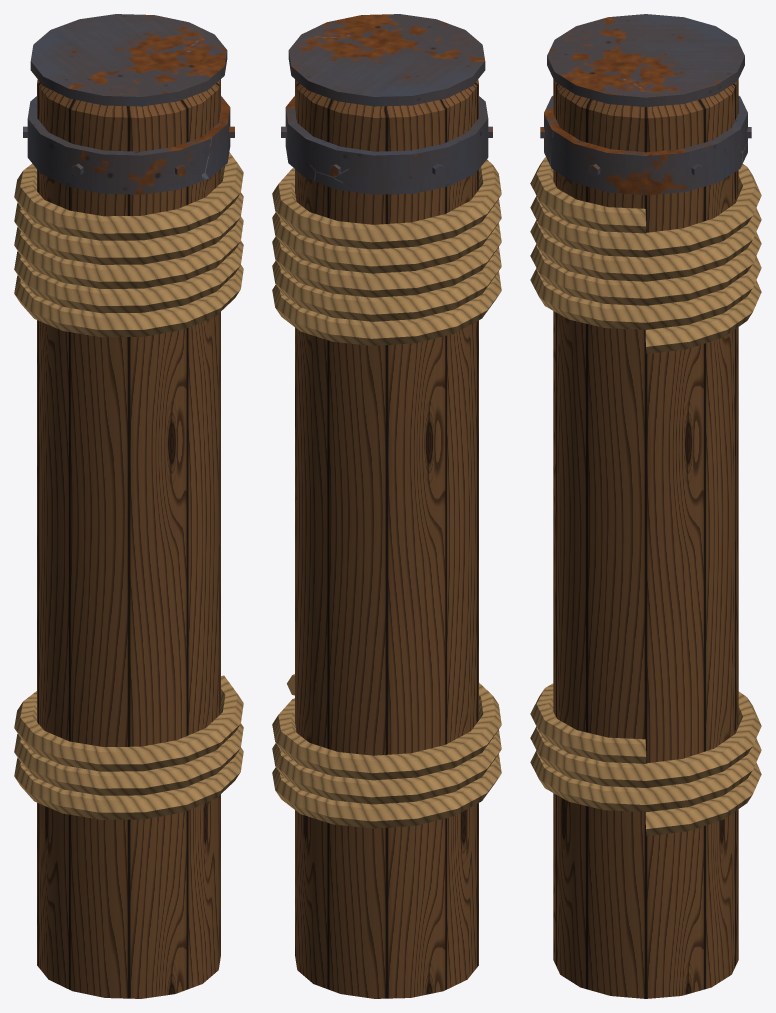
File: Post.glb
3 views of the same model, side by side, from view 1: azimuth 30°, elevation 25°; view 2: azimuth 150°, elevation 25°; view 3: azimuth 270°, elevation 25° (orthographic).
Visible parts, largest first — view 1: Post; view 2: Post; view 3: Post.
Boxes of the visible parts, box(x1,y1,x2,y2) form: Post: box(14, 14, 243, 998); Post: box(272, 14, 501, 998); Post: box(530, 14, 761, 998).
Bounding box in the file's own units: 0.374 × 1.61 × 0.374.
3 materials, 3 textured.
